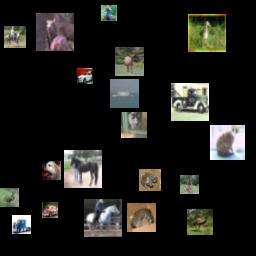automobile: (77, 68, 93, 84)
bird: (188, 14, 226, 52), (187, 209, 213, 235), (0, 188, 19, 207), (101, 5, 117, 21)
cat: (210, 125, 245, 160), (127, 203, 156, 232), (121, 112, 147, 138)
deer: (36, 13, 74, 51), (115, 47, 144, 76), (180, 175, 199, 194)
dog: (42, 161, 61, 180)
frog: (139, 169, 161, 191)
ship: (110, 79, 139, 108)
truck: (171, 83, 209, 121), (12, 215, 31, 234), (42, 202, 58, 218)
